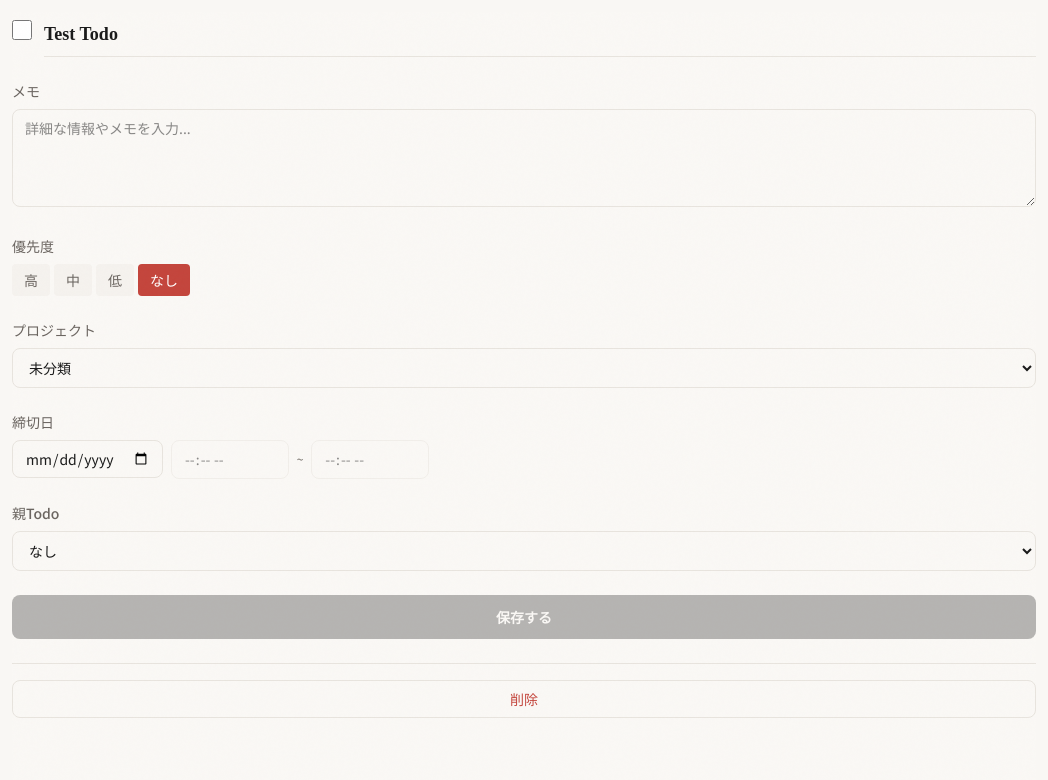
Scenario: TodoDetailForm › save button › should be enabled after a change
This screenshot has width=1048, height=780.
Replace the text in the text box showing "Test Todo" with "Changed" at (540, 34), box x1=44 y1=12 x2=1036 y2=57
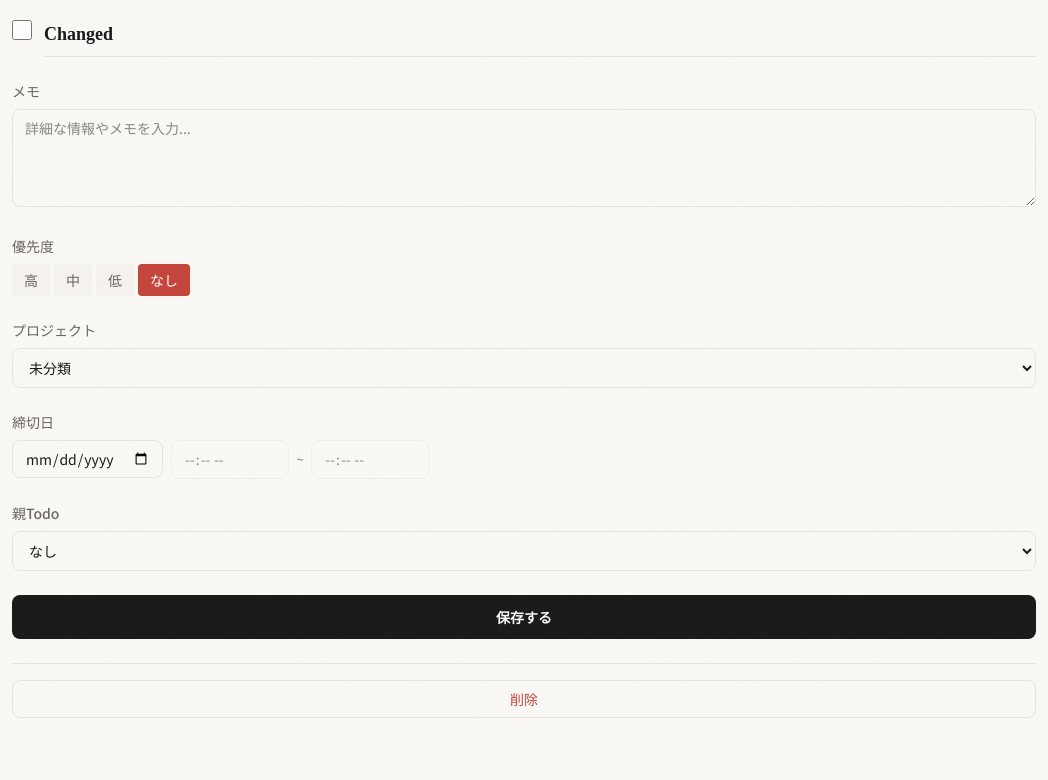
Now the button "保存する" is enabled, box x1=12 y1=595 x2=1036 y2=639
